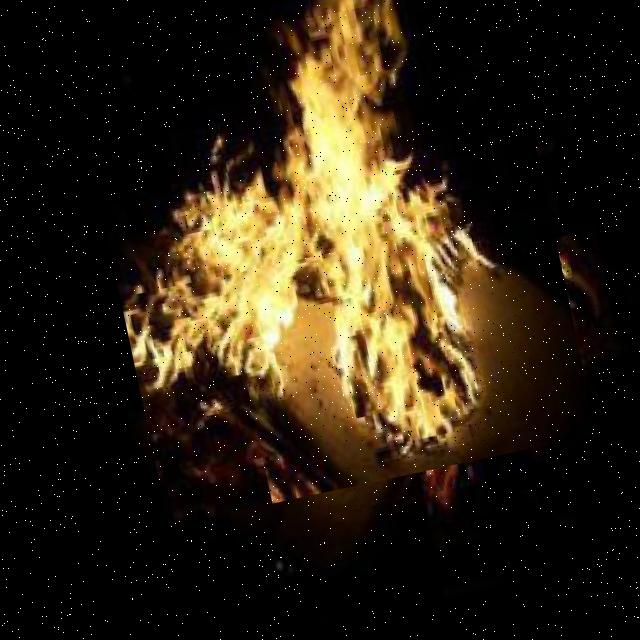fire: (66, 0, 596, 525)
